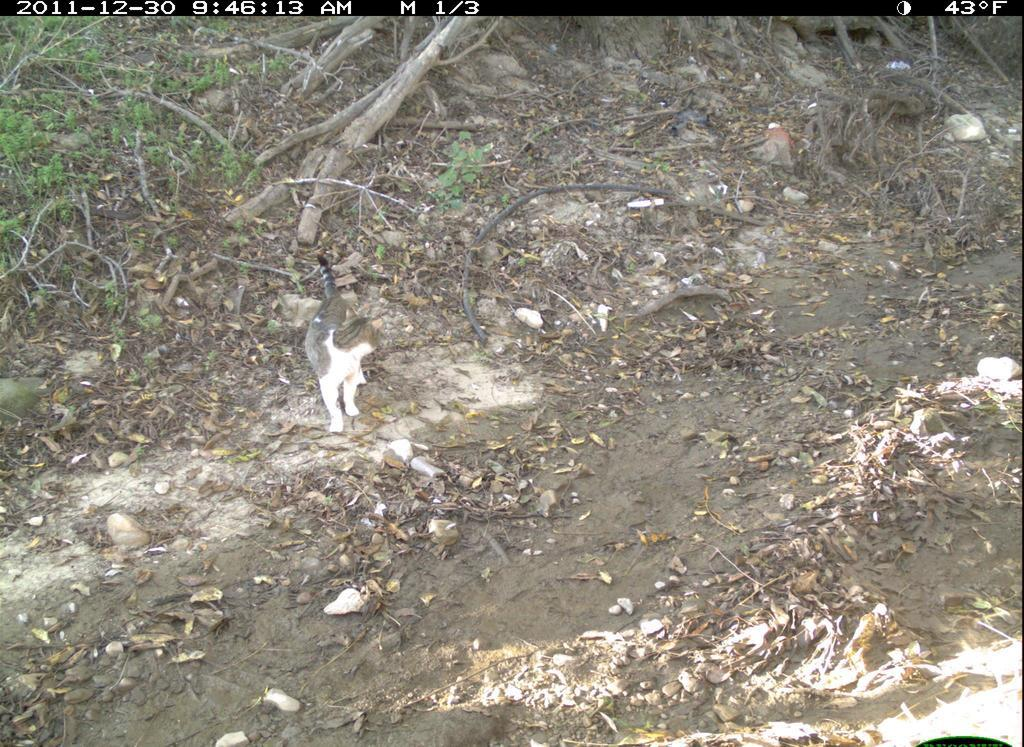cat: (297, 249, 386, 441)
